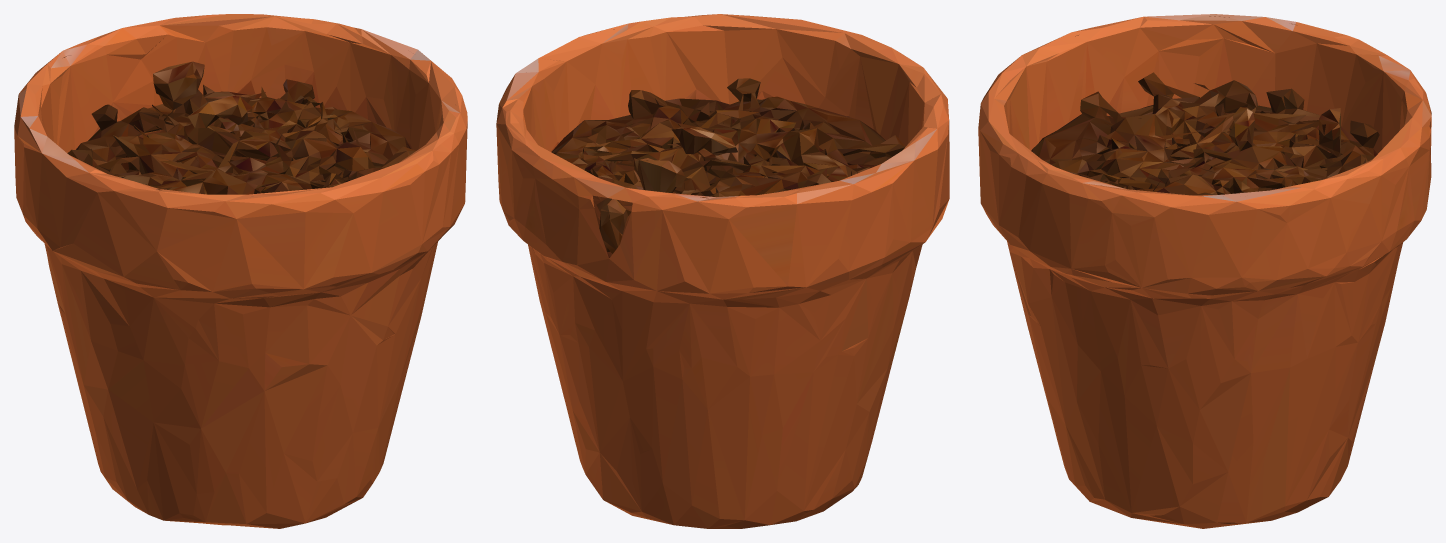
File: pot.glb
The picture shows the model from 3 angles, left to right: view 1: azimuth 30°, elevation 25°; view 2: azimuth 150°, elevation 25°; view 3: azimuth 270°, elevation 25°; orthographic projection.
Visible parts, largest first — view 1: geometry_0; view 2: geometry_0; view 3: geometry_0.
Part boxes in pixels (x1,y1,x2,y2): geometry_0: (14,14,467,528); geometry_0: (496,14,949,528); geometry_0: (978,14,1431,528).
Size of the model in its own units: 0.332 by 0.3 by 0.3323.
1 material, 1 textured.
